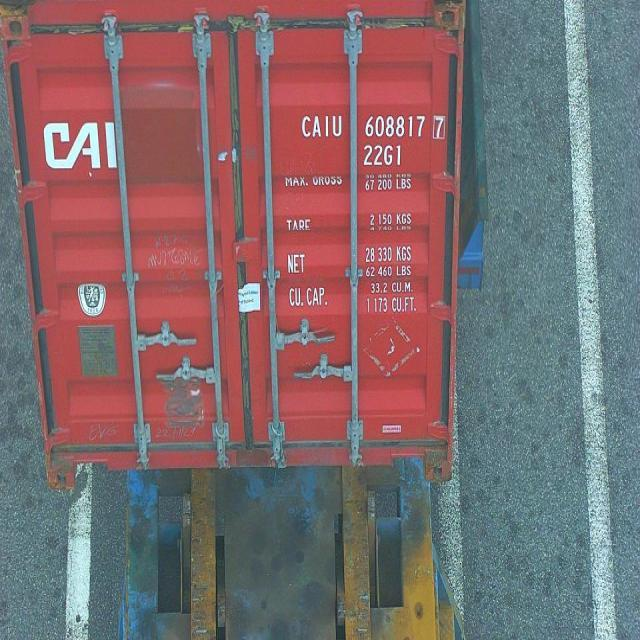ISO: (362, 146, 404, 170)
container_number: (303, 116, 447, 139)
